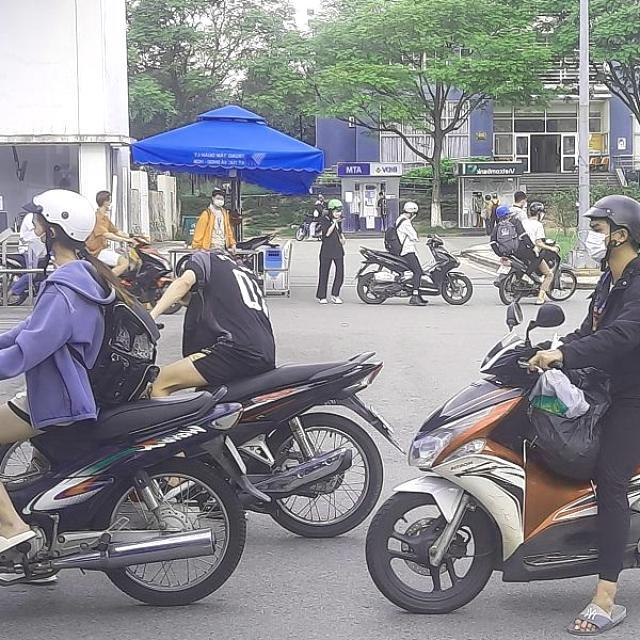Helmet: (16, 184, 98, 264), (580, 192, 640, 269)
